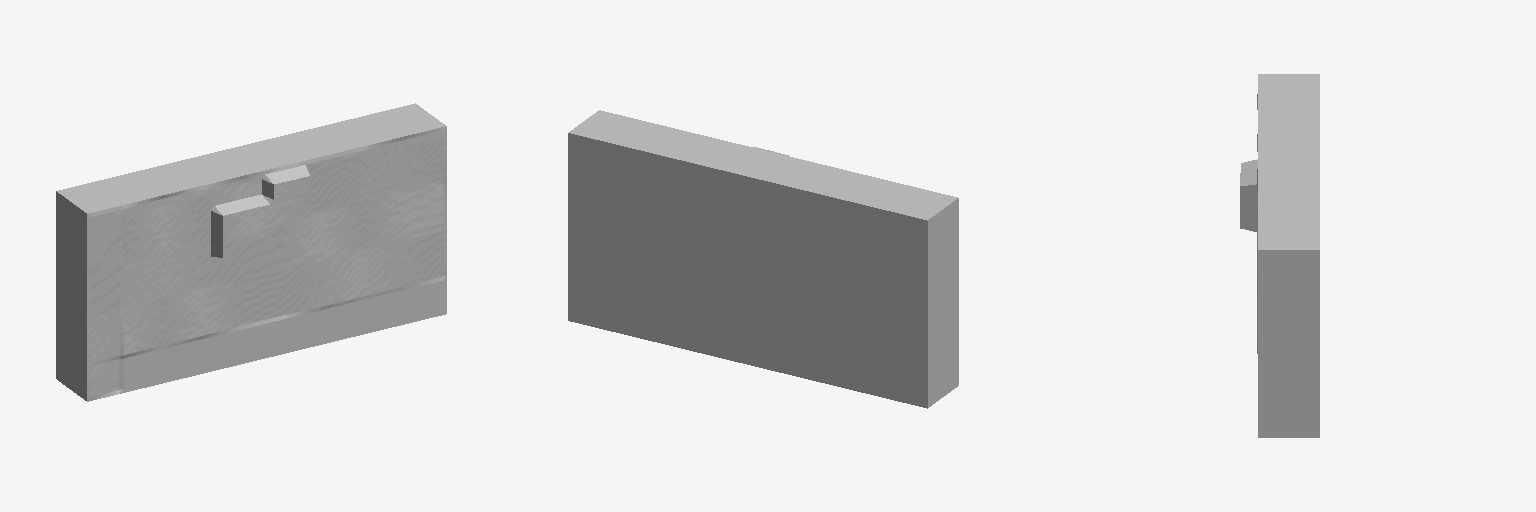
File: rectangular_prism_bumps_8_7.obj
The picture shows the model from 3 angles: view 1: azimuth 30°, elevation 25°; view 2: azimuth 150°, elevation 25°; view 3: azimuth 270°, elevation 25°; orthographic projection.
Bounding box in the file's own units: 10 × 5 × 1.94.